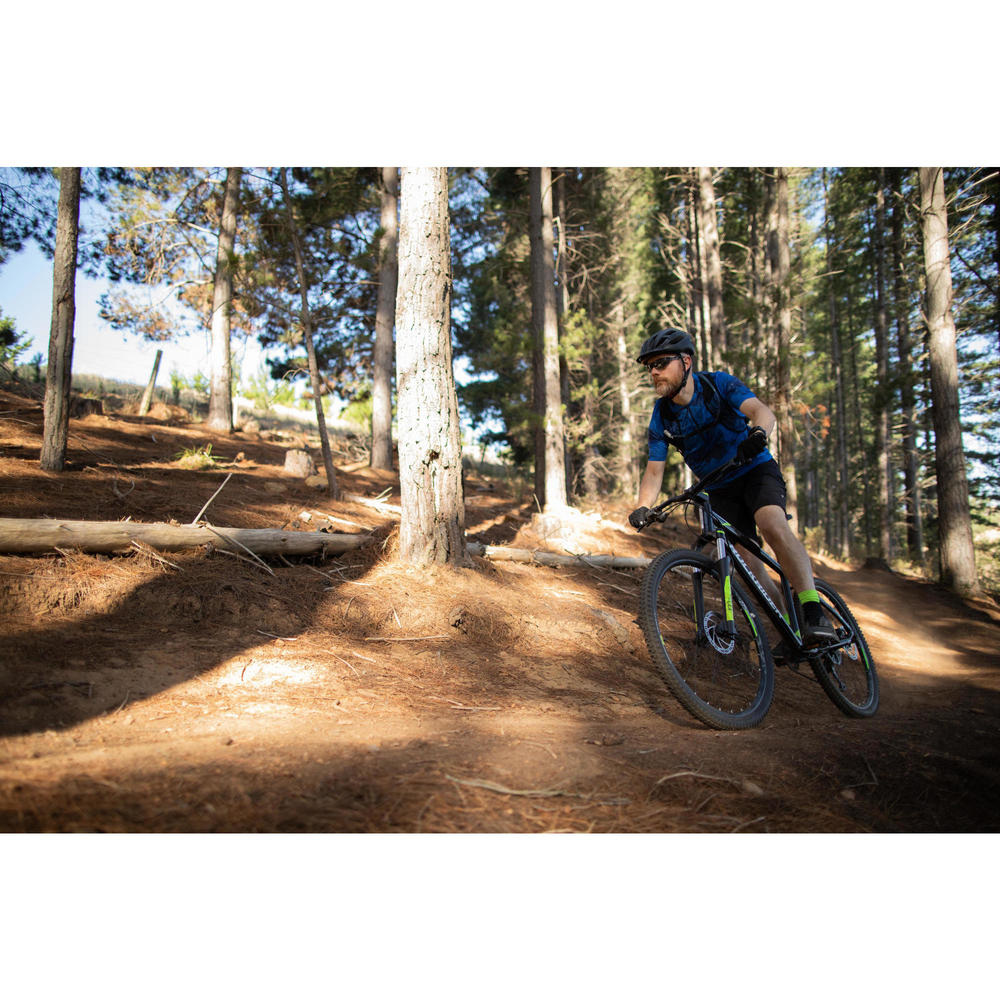MountainBike: (633, 439, 886, 720)
